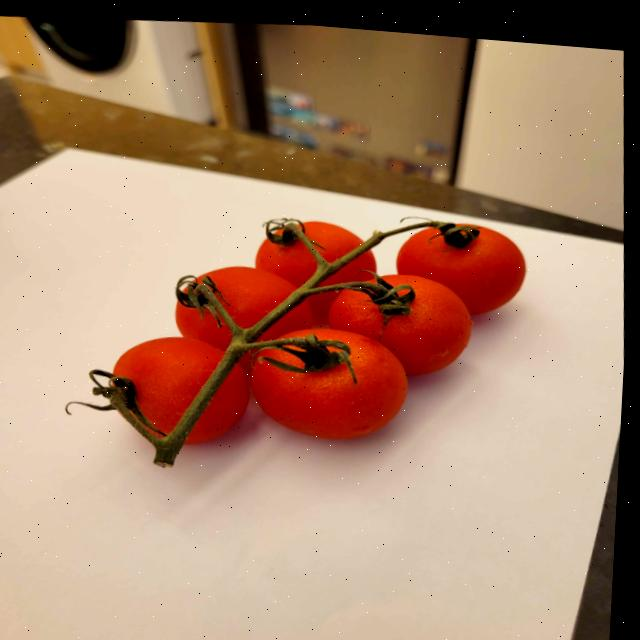ripe2: (251, 329, 407, 439), (329, 275, 472, 375), (396, 226, 526, 315), (112, 337, 225, 435), (198, 267, 297, 329), (187, 365, 249, 444), (256, 239, 316, 288), (302, 221, 363, 263), (176, 304, 231, 350), (261, 300, 313, 340), (327, 250, 376, 284)
